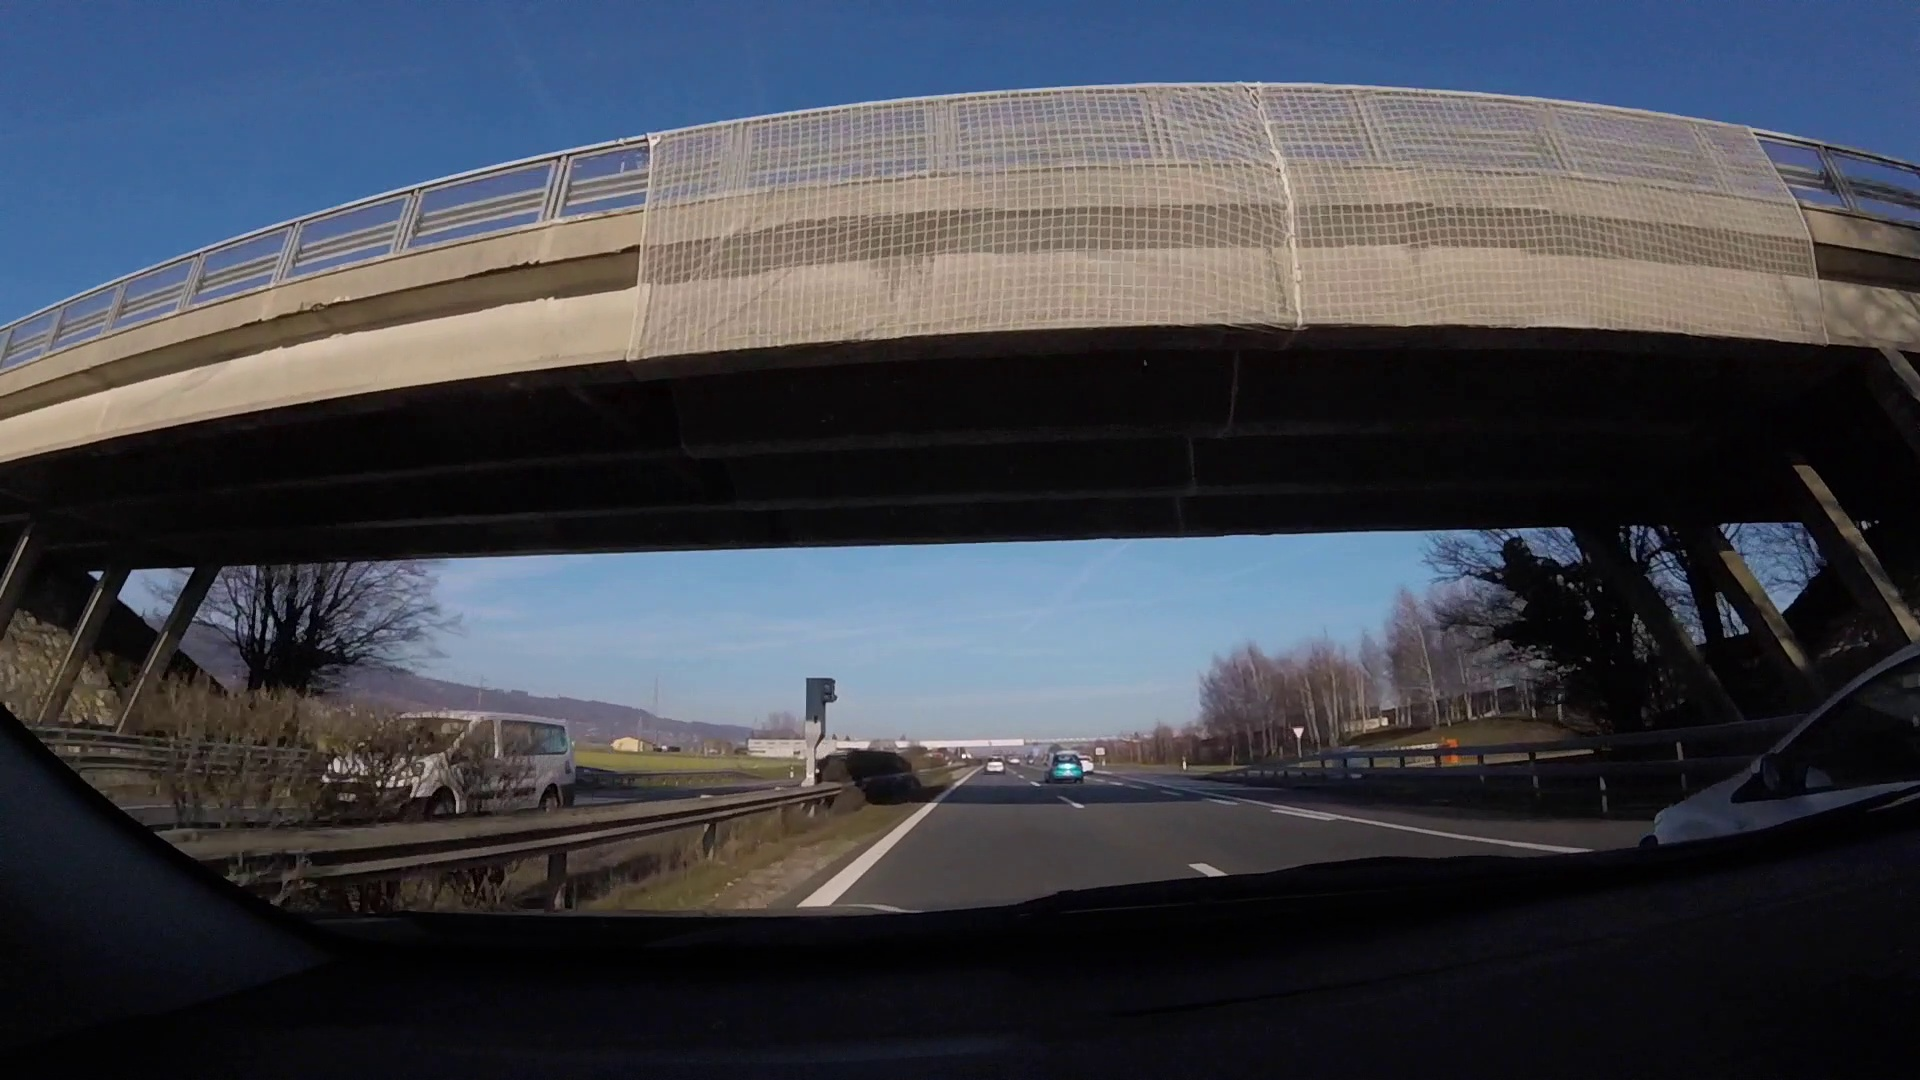radar: (803, 676, 840, 781)
